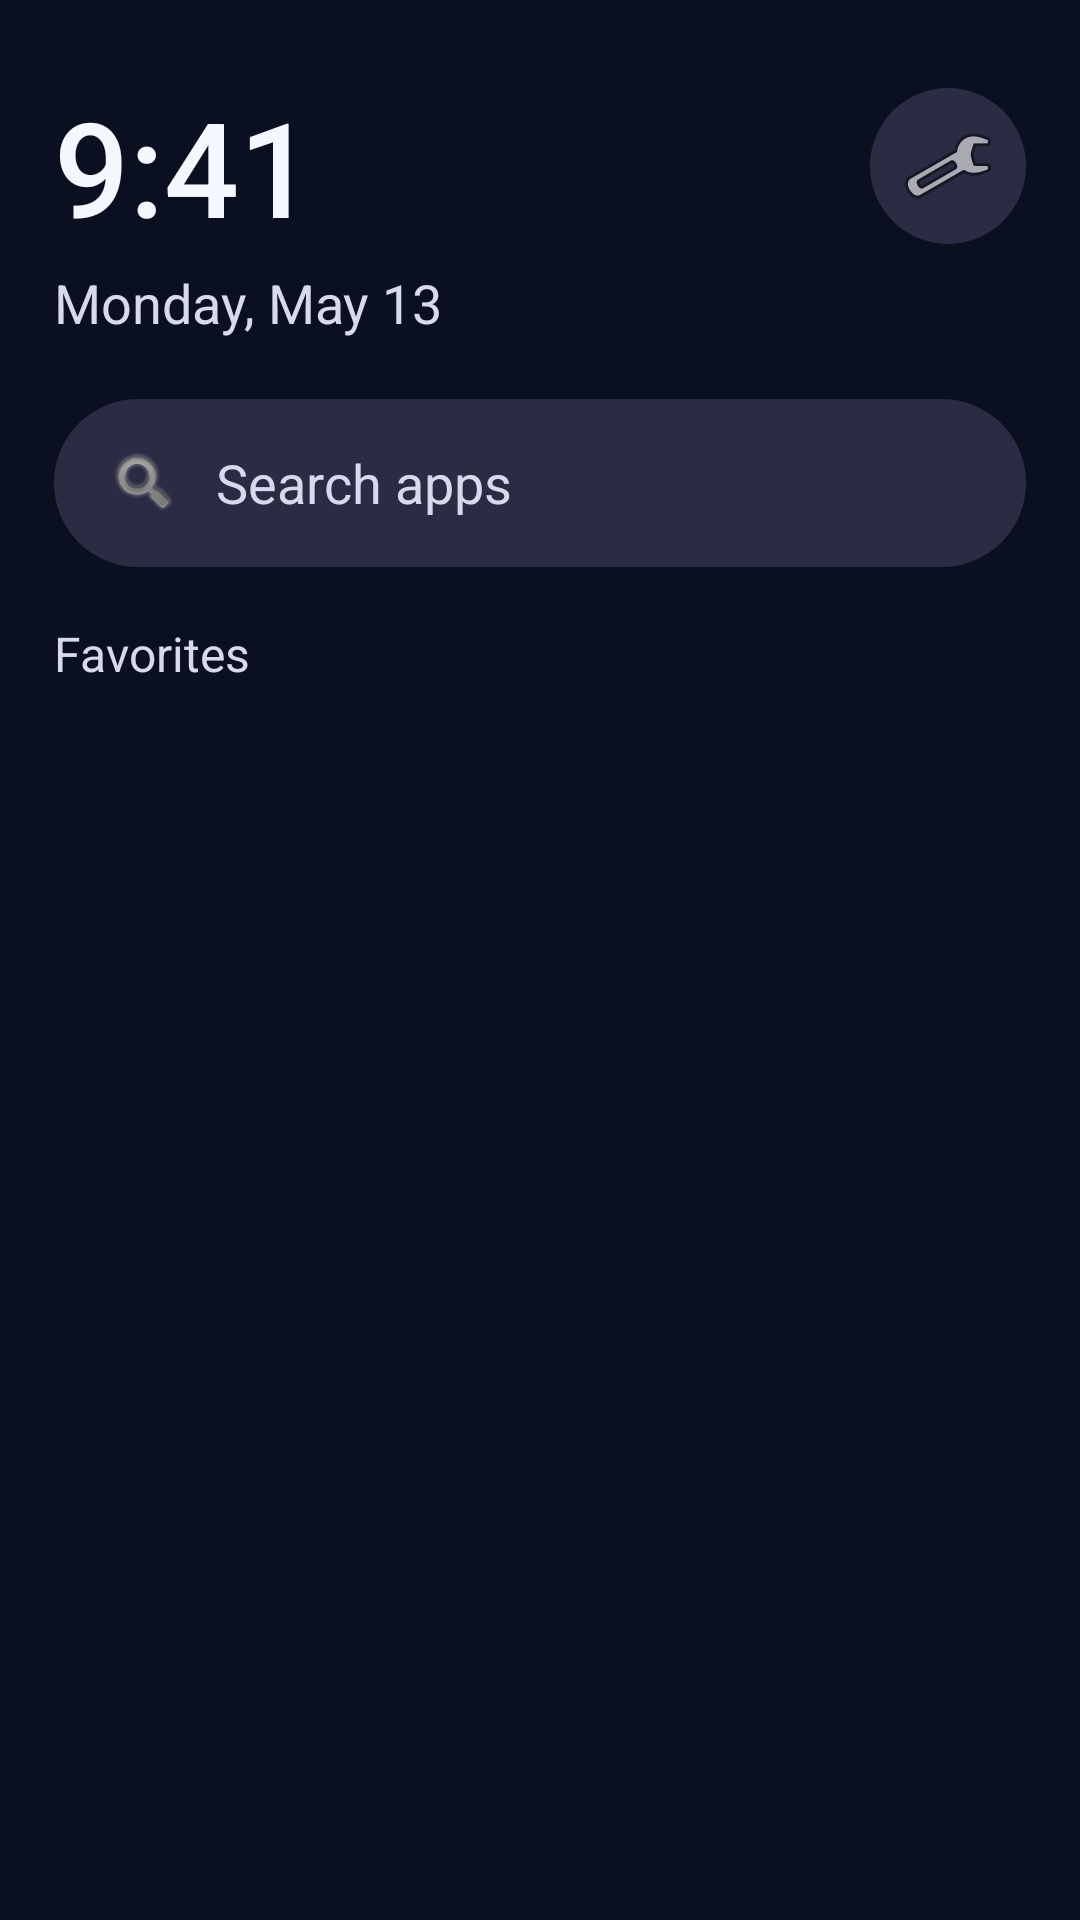

Where icons sit on this 1080 x 1920 app screen, as {"x1": x1, "y1": y1, "x2": x2, "y2": y2}:
search category: {"x1": 116, "y1": 455, "x2": 171, "y2": 509}
Settings: {"x1": 870, "y1": 88, "x2": 1026, "y2": 244}
